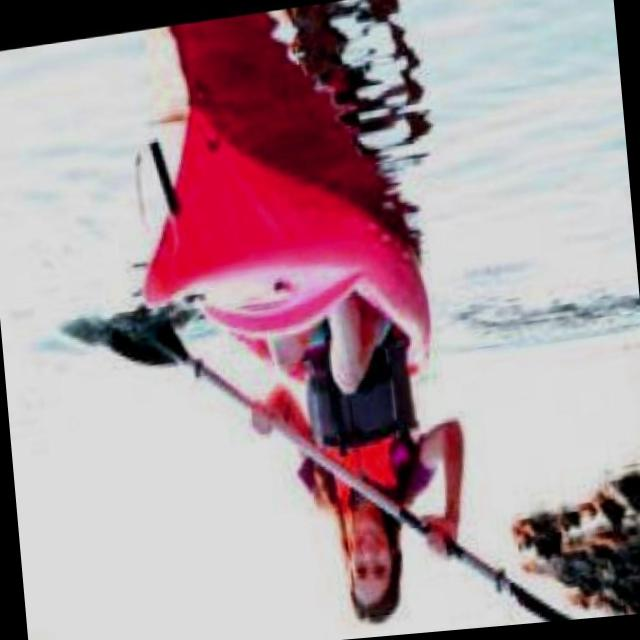kayak: (145, 101, 428, 362)
